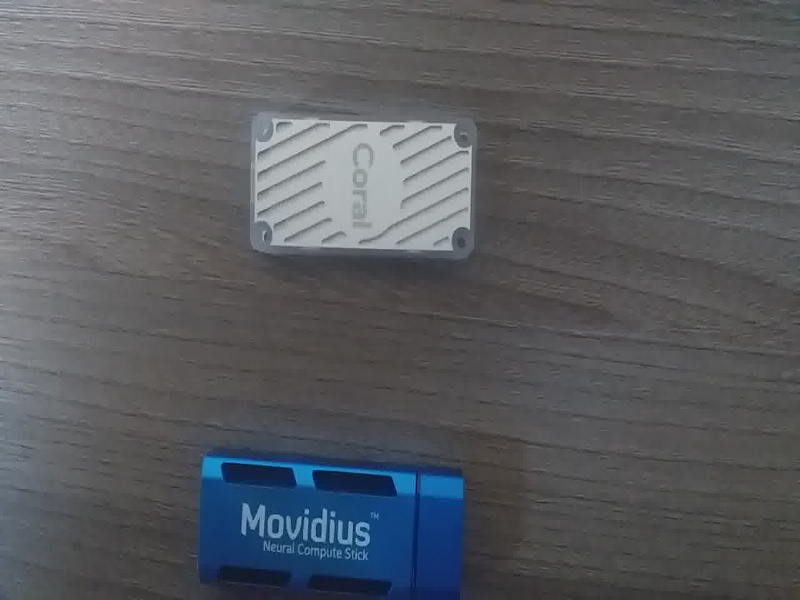coral: (239, 103, 480, 269)
movidius: (189, 445, 479, 599)
